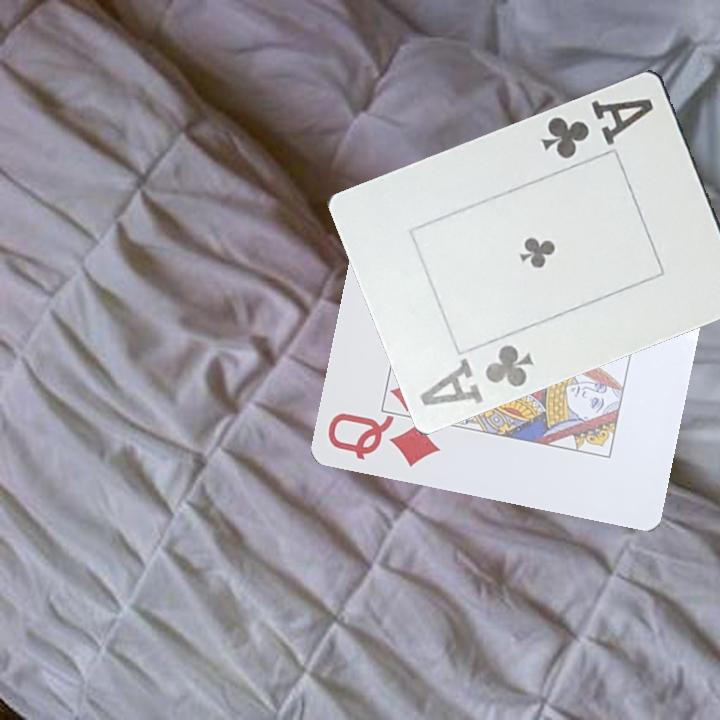Ac: (416, 340, 538, 409), (537, 94, 657, 162)
Qd: (324, 409, 445, 470)
